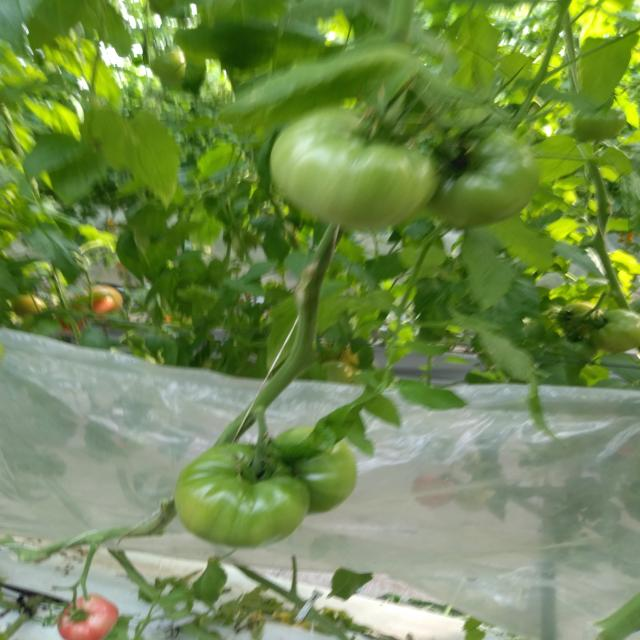yesil: (269, 49, 537, 248), (150, 428, 379, 555)
